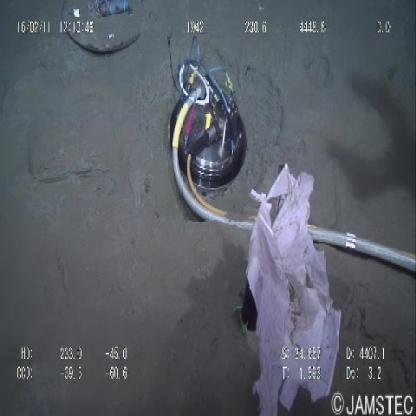Rov: (165, 19, 253, 238)
Rác: (238, 162, 346, 416)
